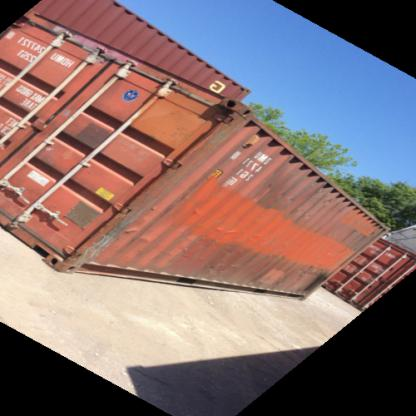Damage: (88, 221, 152, 268), (207, 241, 252, 287), (260, 177, 314, 214), (294, 261, 324, 298), (336, 228, 370, 250), (208, 218, 242, 235), (176, 240, 198, 266), (322, 187, 341, 212), (186, 203, 200, 217)
